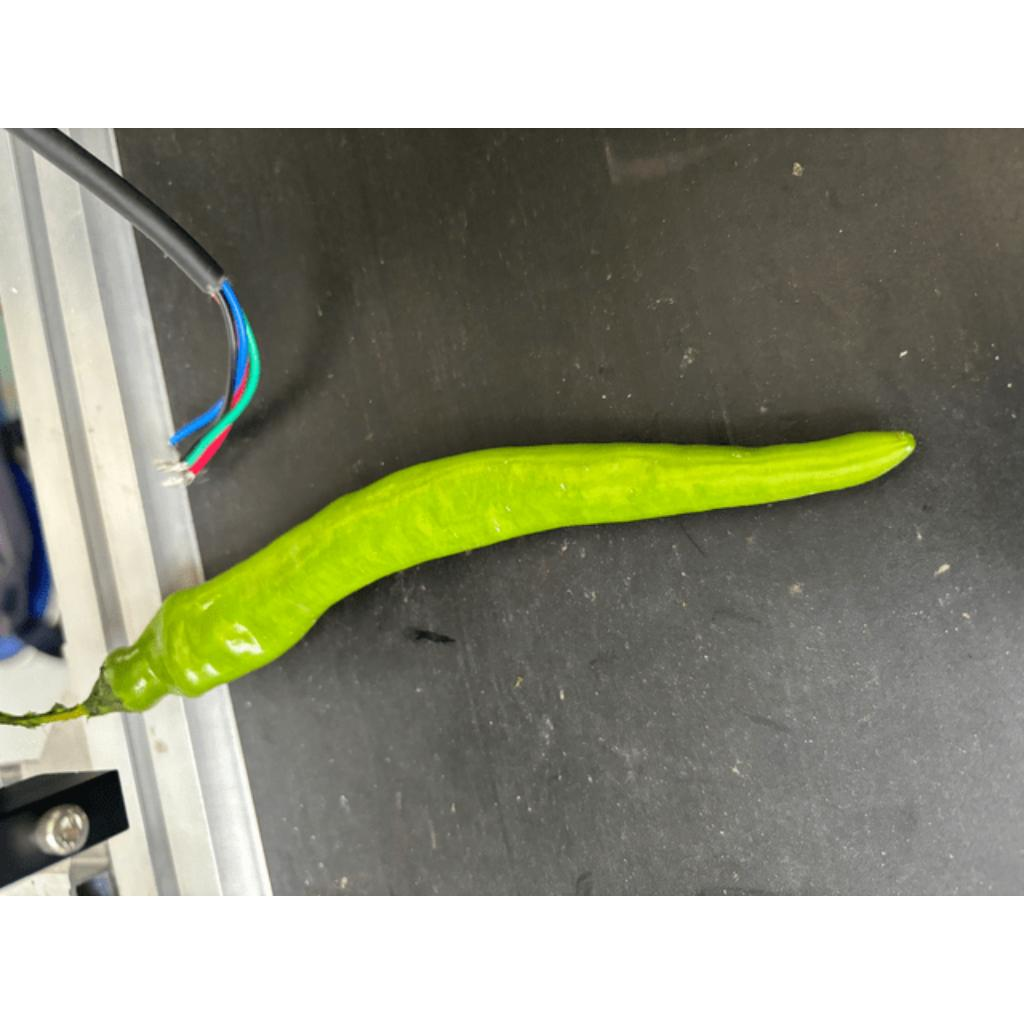chili: (88, 428, 918, 716)
